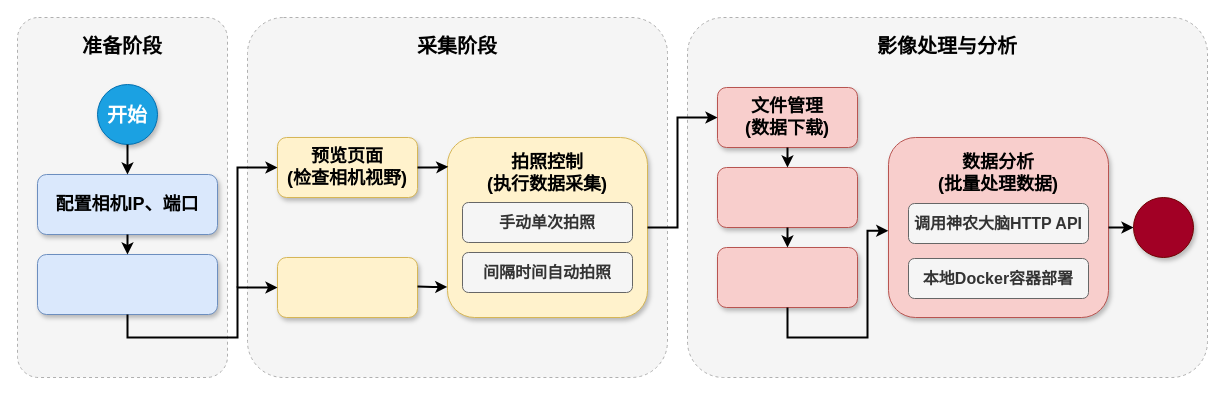
The diagram is 1225 pixels wide and 395 high, and some of its shapes have lost their labels. The shapes that lost their labels are listed below. From the top down, each one's centre as x and y in pixels, then its label:
point 788,198: 辐射定标
point 1164,228: 结束
point 128,286: 测试相机连接
point 348,288: 相机状态页面 (检查GPS、DLS状态)
point 788,278: 波段配准
